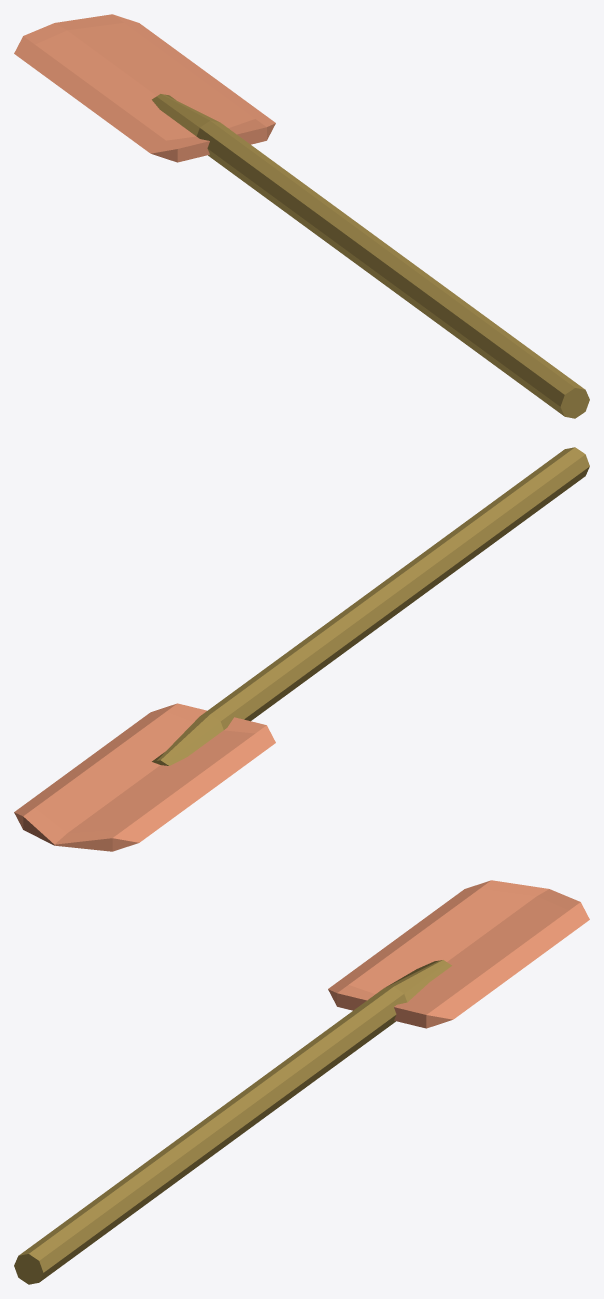
The model's file is Veslo2.fbx.
3 renders of one model, top to bottom at view 1: azimuth 30°, elevation 25°; view 2: azimuth 150°, elevation 25°; view 3: azimuth 330°, elevation 25°, orthographic.
Visible parts, largest first — view 1: Cylinder.017; view 2: Cylinder.017; view 3: Cylinder.017.
Part boxes in pixels (x1,y1,x2,y2): Cylinder.017: (14, 14, 589, 418); Cylinder.017: (14, 447, 589, 851); Cylinder.017: (14, 880, 589, 1284).
Bounding box in the file's own units: 850 × 200 × 6110.
